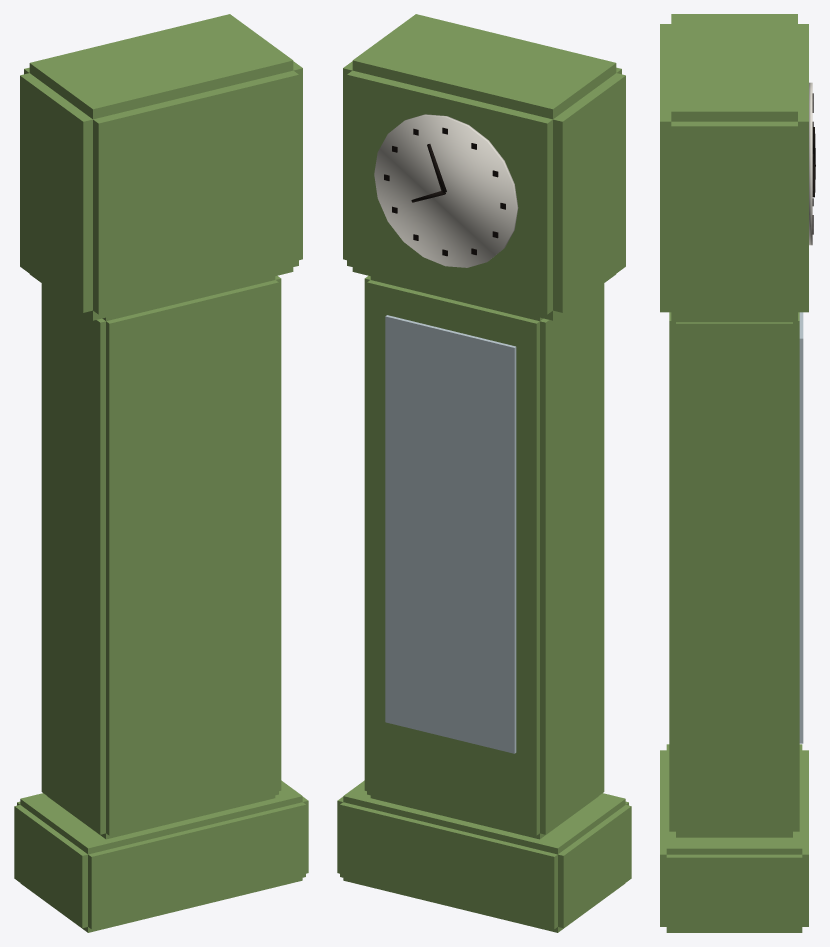
File: cactus_clock_v0.glb
3 views of the same model, side by side, from view 1: azimuth 30°, elevation 25°; view 2: azimuth 150°, elevation 25°; view 3: azimuth 270°, elevation 25° (orthographic).
Parts seen in each view (by area): view 1: cactus_clock_v0; view 2: cactus_clock_v0; view 3: cactus_clock_v0.
Boxes of the visible parts, x1,y1,x2,y2 form: cactus_clock_v0: [14, 14, 308, 932]; cactus_clock_v0: [337, 14, 631, 932]; cactus_clock_v0: [660, 14, 815, 932].
Size of the model in its own units: 0.7 by 2.42 by 0.4185.
